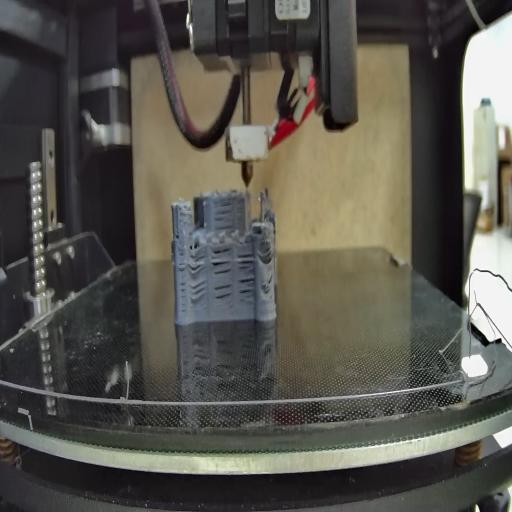cracks: (236, 251, 257, 305), (209, 244, 232, 275), (216, 200, 234, 232), (188, 248, 207, 273), (179, 248, 186, 312), (214, 282, 232, 306), (188, 280, 207, 302), (263, 246, 275, 264), (264, 273, 275, 285), (176, 227, 180, 242)
